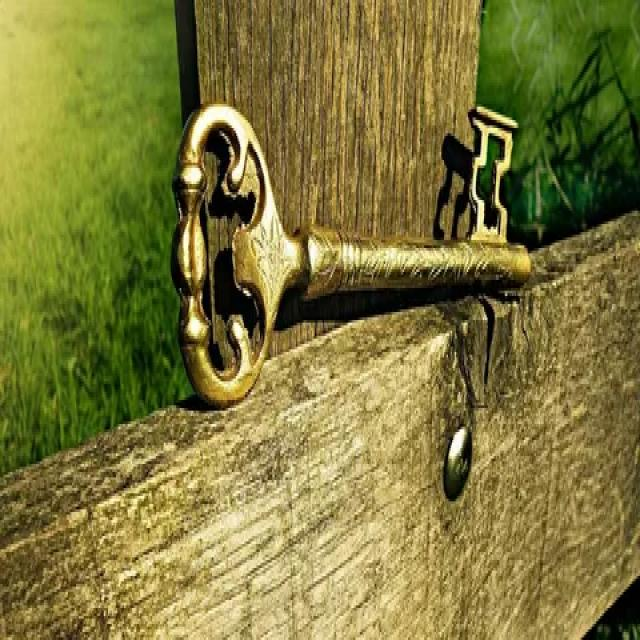key: (168, 68, 535, 415)
